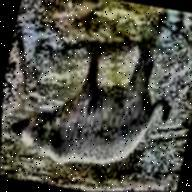boar: (12, 29, 190, 189)
